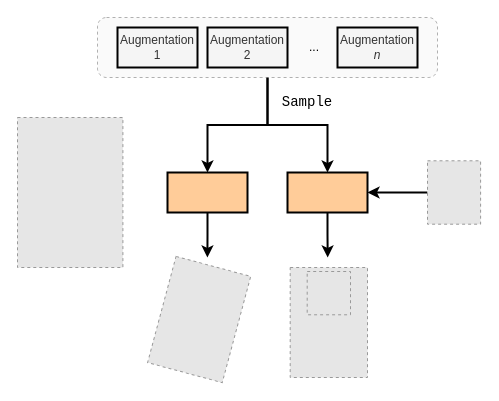
The diagram is 499 pixels wide and 401 high, and some of its shapes have lost their labels. Grey dashed boxes stand in for pictures. Each missing label, with the box of its shape:
Cutmix: (286, 171, 368, 213)
Rotation: (166, 171, 248, 213)
